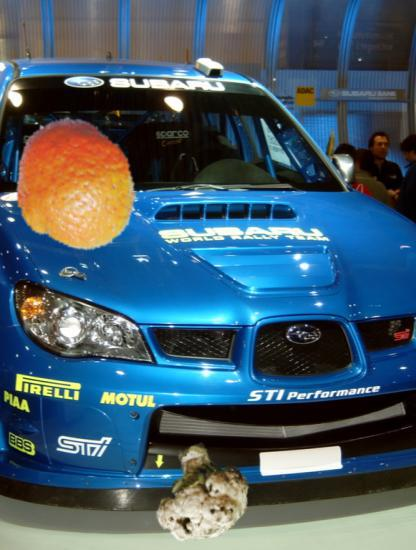Cauliflower: (148, 443, 250, 545)
Mandarine: (5, 116, 144, 255)
